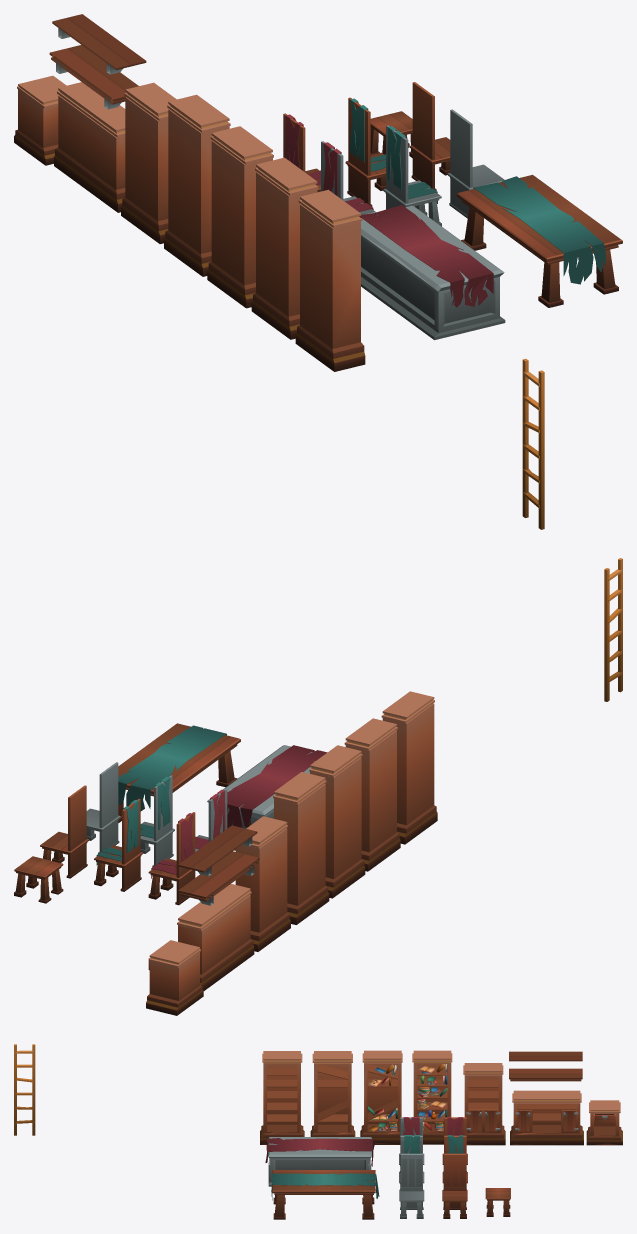
File: Furniture.fbx
3 views of the same model, one above another, from view 1: azimuth 30°, elevation 25°; view 2: azimuth 150°, elevation 25°; view 3: azimuth 270°, elevation 25° (orthographic). The views are drawn at different scales.
Parts seen in each view (by area): view 1: Book_Shelf.001, Altar, Book_Shelf.006, Book_Shelf.005, Book_Shelf.008, Book_Shelf.003, Book_Shelf.007, Table, Mat.001, Mat, Book_Shelf.002, Chair.005 (+9 smaller); view 2: Book_Shelf.008, Book_Shelf.001, Book_Shelf.006, Book_Shelf.005, Book_Shelf.003, Book_Shelf.007, Book_Shelf.002, Mat.001, Mat, Table, Chair.005, Chair (+9 smaller); view 3: Book_Shelf.006, Book_Shelf.001, Book_Shelf.005, Book_Shelf.003, Book_Shelf.008, Book_Shelf.007, Altar, Table, Chair, Chair.001, Mat, Mat.001 (+13 smaller).
Part boxes in pixels (x1,y1,x2,y2): Book_Shelf.001: (295,189,365,371); Altar: (361,205,505,340); Book_Shelf.006: (207,126,273,308); Book_Shelf.005: (251,157,318,339); Book_Shelf.008: (164,94,230,276); Book_Shelf.003: (54,82,125,212); Book_Shelf.007: (121,82,176,243); Table: (457,174,622,307); Mat.001: (473,176,605,284); Mat: (359,205,493,307); Book_Shelf.002: (14,75,66,165); Chair.005: (345,97,385,206); Book_Shelf.008: (273,772,329,924); Book_Shelf.001: (381,691,437,844); Book_Shelf.006: (309,745,365,898); Book_Shelf.005: (344,718,400,871); Book_Shelf.003: (177,884,254,990); Book_Shelf.007: (235,816,290,951); Book_Shelf.002: (146,940,203,1015); Mat.001: (118,725,226,811); Mat: (227,745,327,828); Table: (118,723,240,822); Chair.005: (94,798,142,891); Chair: (40,785,88,878); Book_Shelf.006: (360,1050,402,1144); Book_Shelf.001: (260,1051,304,1144); Book_Shelf.005: (310,1051,355,1136); Book_Shelf.003: (510,1090,583,1145); Book_Shelf.008: (412,1050,452,1144); Book_Shelf.007: (463,1063,505,1145); Altar: (268,1137,371,1186); Table: (272,1170,375,1219); Chair: (442,1153,467,1218); Chair.001: (399,1153,424,1218); Mat: (265,1138,374,1166); Mat.001: (271,1173,379,1200).
Size of the model in its own units: 4.71 by 2.3 by 14.07.
